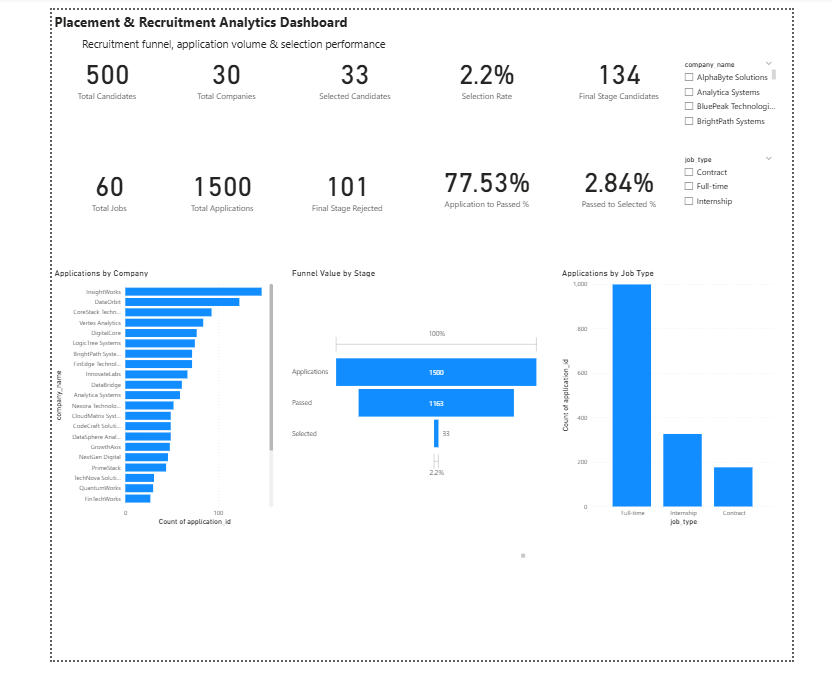

This screenshot's page, from the dashboard's own definition file:
{"tool":"powerbi","page":{"name":"Recruitment Overview","canvas":[1480,1300],"ordinal":0},"visuals":[{"type":"card","fields":{"Values":["applications.Selection Rate"]},"box":[754,24,230,216],"z":0},{"type":"card","fields":{"Values":["jobs.Total Jobs"]},"box":[10,256,210,204],"z":1000},{"type":"card","fields":{"Values":["companies.Total Companies"]},"box":[240,24,218,216],"z":2000},{"type":"card","fields":{"Values":["candidates.Total Candidates"]},"box":[0,24,220,216],"z":3000},{"type":"card","fields":{"Values":["applications.Total Applications"]},"box":[242,256,196,204],"z":4000},{"type":"funnel","fields":{"Category":["Funnel Stages.Stage"],"Y":["Funnel Stages.Funnel Value"]},"box":[474,516,504,522],"z":5000},{"type":"card","fields":{"Values":["application_stages.Final Stage Candidates"]},"box":[1016,24,238,216],"z":6000},{"type":"card","fields":{"Values":["application_stages.Selected Candidates"]},"box":[490,24,232,216],"z":7000},{"type":"card","fields":{"Values":["application_stages.Final Stage Rejected"]},"box":[474,256,232,204],"z":8000},{"type":"card","fields":{"Values":["applications.Application to Passed %"]},"box":[754,256,230,188],"z":9000},{"type":"card","fields":{"Values":["applications.Passed to Selected %"]},"box":[1016,256,238,188],"z":10000},{"type":"clusteredColumnChart","title":"Applications by Job Type","fields":{"Category":["jobs.job_type"],"Y":["CountNonNull(applications.application_id)"]},"box":[1016,516,436,522],"z":11000},{"type":"clusteredBarChart","title":"Applications by Company","fields":{"Y":["CountNonNull(applications.application_id)"],"Category":["companies.company_name"]},"box":[0,516,448,522],"z":12000},{"type":"textbox","box":[0,0,620,48],"z":13000},{"type":"textbox","box":[56,48,921,48],"z":14000},{"type":"textbox","box":[458,1082,494,18],"z":15000},{"type":"slicer","fields":{"Values":["companies.company_name"]},"box":[1252.5,95,200,145],"z":16000},{"type":"slicer","fields":{"Values":["jobs.job_type"]},"box":[1252.5,285,200,125],"z":17000}]}

Visuals, with their boxes on the page's 1480x1300 design canvas (x1, y1, x2, y2). These are canvas units, not pixel positions in the 832x691 screenshot, which may show the page scaled, cropped or inside an application window:
card - applications.Selection Rate: BBox(754, 24, 984, 240)
card - jobs.Total Jobs: BBox(10, 256, 220, 460)
card - companies.Total Companies: BBox(240, 24, 458, 240)
card - candidates.Total Candidates: BBox(0, 24, 220, 240)
card - applications.Total Applications: BBox(242, 256, 438, 460)
funnel - Funnel Stages.Stage x Funnel Stages.Funnel Value: BBox(474, 516, 978, 1038)
card - application_stages.Final Stage Candidates: BBox(1016, 24, 1254, 240)
card - application_stages.Selected Candidates: BBox(490, 24, 722, 240)
card - application_stages.Final Stage Rejected: BBox(474, 256, 706, 460)
card - applications.Application to Passed %: BBox(754, 256, 984, 444)
card - applications.Passed to Selected %: BBox(1016, 256, 1254, 444)
"Applications by Job Type" clusteredColumnChart: BBox(1016, 516, 1452, 1038)
"Applications by Company" clusteredBarChart: BBox(0, 516, 448, 1038)
textbox: BBox(0, 0, 620, 48)
textbox: BBox(56, 48, 977, 96)
textbox: BBox(458, 1082, 952, 1100)
slicer - companies.company_name: BBox(1252, 95, 1452, 240)
slicer - jobs.job_type: BBox(1252, 285, 1452, 410)
